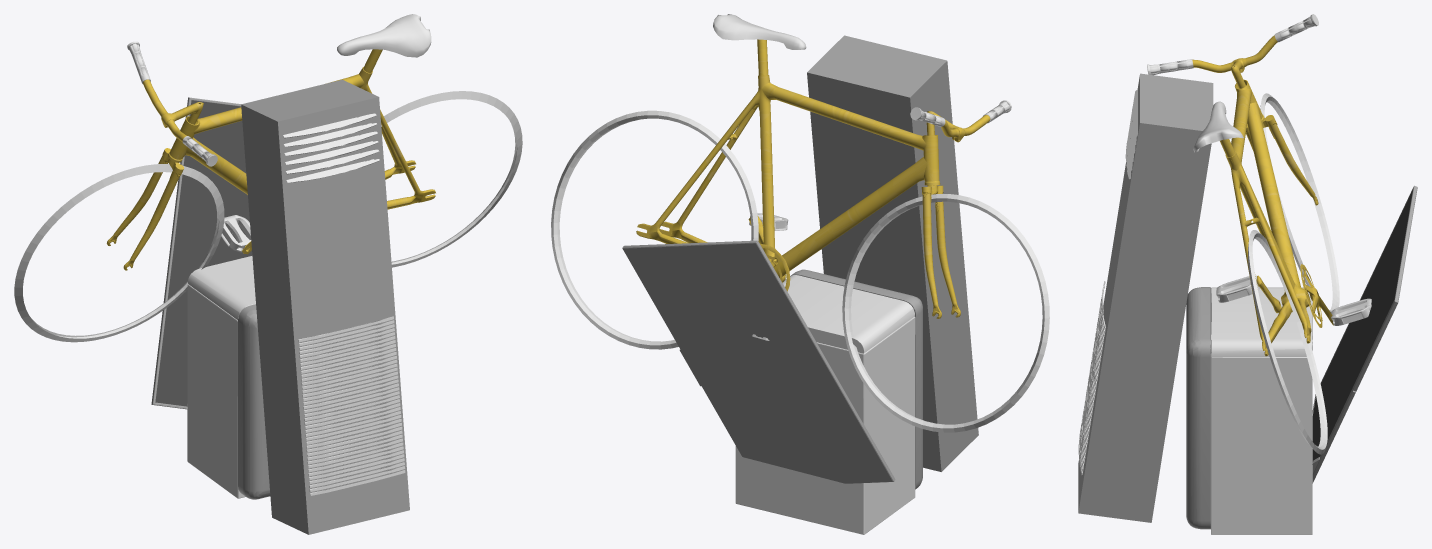
The model's file is products_valued.fbx.
3 renders of one model, left to right at view 1: azimuth 30°, elevation 25°; view 2: azimuth 150°, elevation 25°; view 3: azimuth 270°, elevation 25°, orthographic.
Visible parts, largest first — view 1: ac, cycling, icebox, tv; view 2: ac, tv, cycling, icebox; view 3: ac, icebox, cycling, tv.
Part boxes in pixels (<box>): ac: <box>241,79,409,534</box>; cycling: <box>14,14,522,342</box>; icebox: <box>187,256,270,499</box>; tv: <box>151,97,252,409</box>; ac: <box>807,35,978,471</box>; tv: <box>622,240,895,483</box>; cycling: <box>551,14,1049,432</box>; icebox: <box>735,269,922,534</box>; ac: <box>1078,73,1213,522</box>; icebox: <box>1186,287,1312,534</box>; cycling: <box>1147,14,1371,454</box>; tv: <box>1312,185,1417,483</box>.
Bounding box in the file's own units: 87.12 × 72.9 × 51.71.
Materials: 8 (1 with a texture image).
